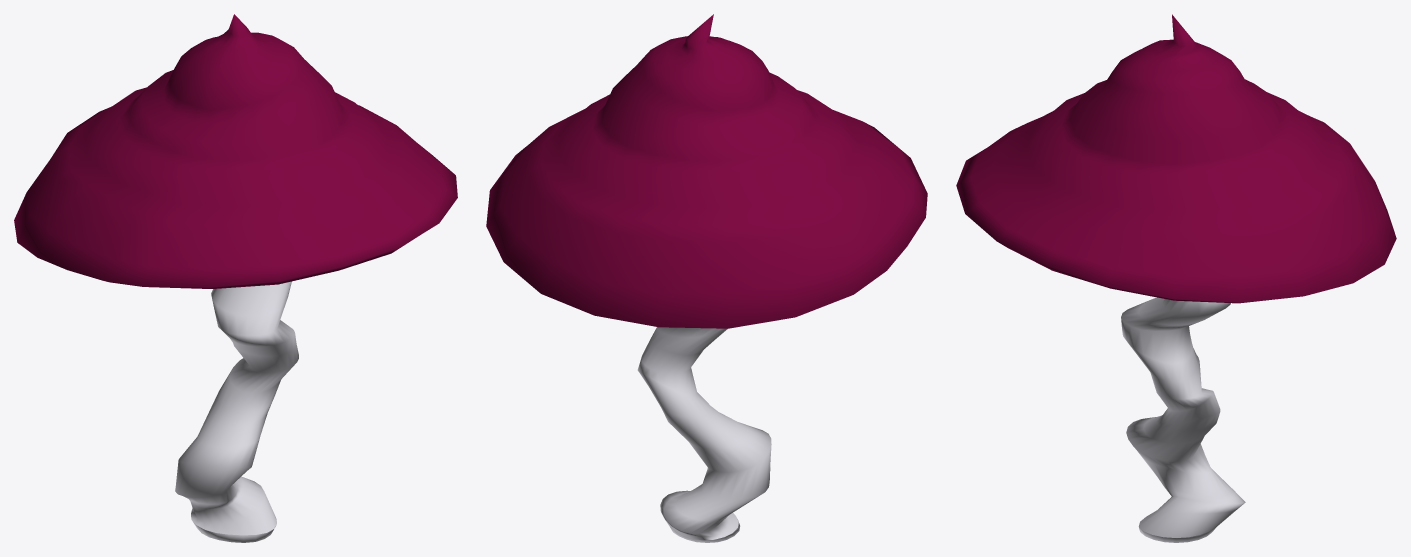
The model's file is mushroomAprRain.fbx.
The picture shows the model from 3 angles, left to right: view 1: azimuth 30°, elevation 25°; view 2: azimuth 150°, elevation 25°; view 3: azimuth 270°, elevation 25°; orthographic projection.
Visible parts, largest first — view 1: mushroom; view 2: mushroom; view 3: mushroom.
Boxes of the visible parts, x1,y1,x2,y2 form: mushroom: [14, 14, 457, 542]; mushroom: [486, 14, 927, 542]; mushroom: [956, 14, 1396, 542].
Bounding box in the file's own units: 5.27 × 6.76 × 5.28.
